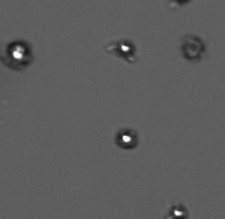Dead Cell: (182, 36, 204, 60)
Living Cell: (7, 40, 30, 65), (116, 127, 140, 149), (114, 39, 134, 59), (168, 205, 189, 218)
